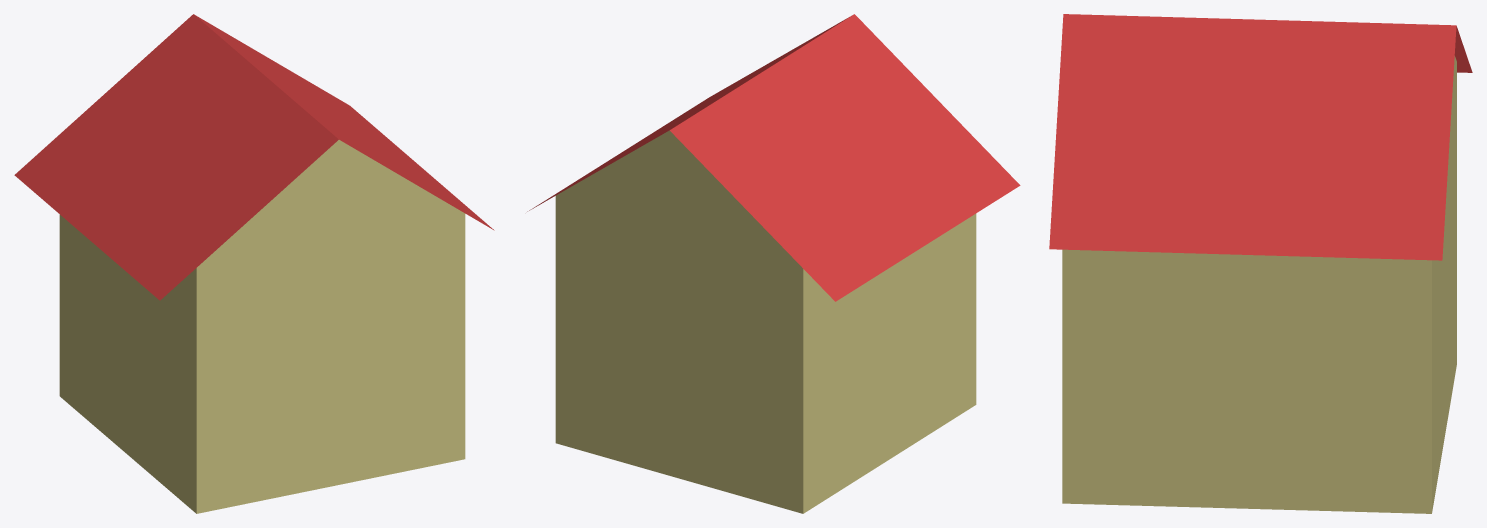
3 renders of one model, left to right at view 1: azimuth 30°, elevation 25°; view 2: azimuth 150°, elevation 25°; view 3: azimuth 270°, elevation 25°, orthographic. The views are drawn at different scales.
Size of the model in its own units: 14.37 by 12.93 by 14.03.
